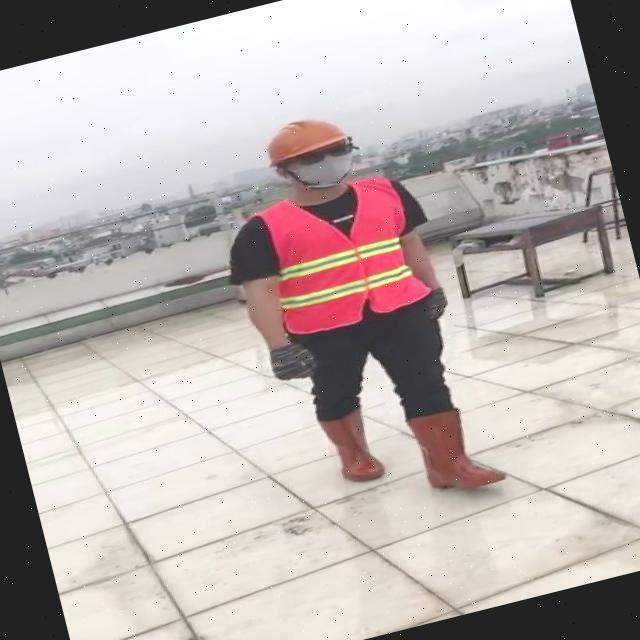boots: (405, 397, 506, 499), (314, 406, 388, 490)
